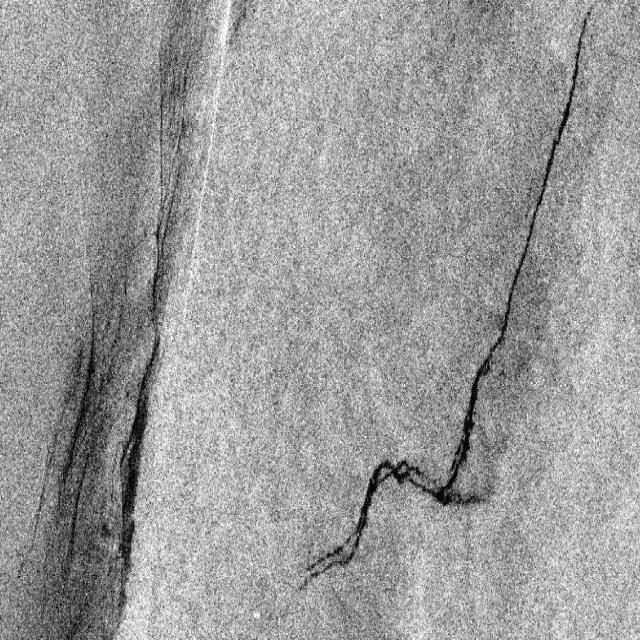look-alike: (44, 306, 162, 632), (131, 8, 209, 312)
oil-spill: (301, 454, 464, 601), (462, 206, 546, 462), (540, 5, 602, 226)
